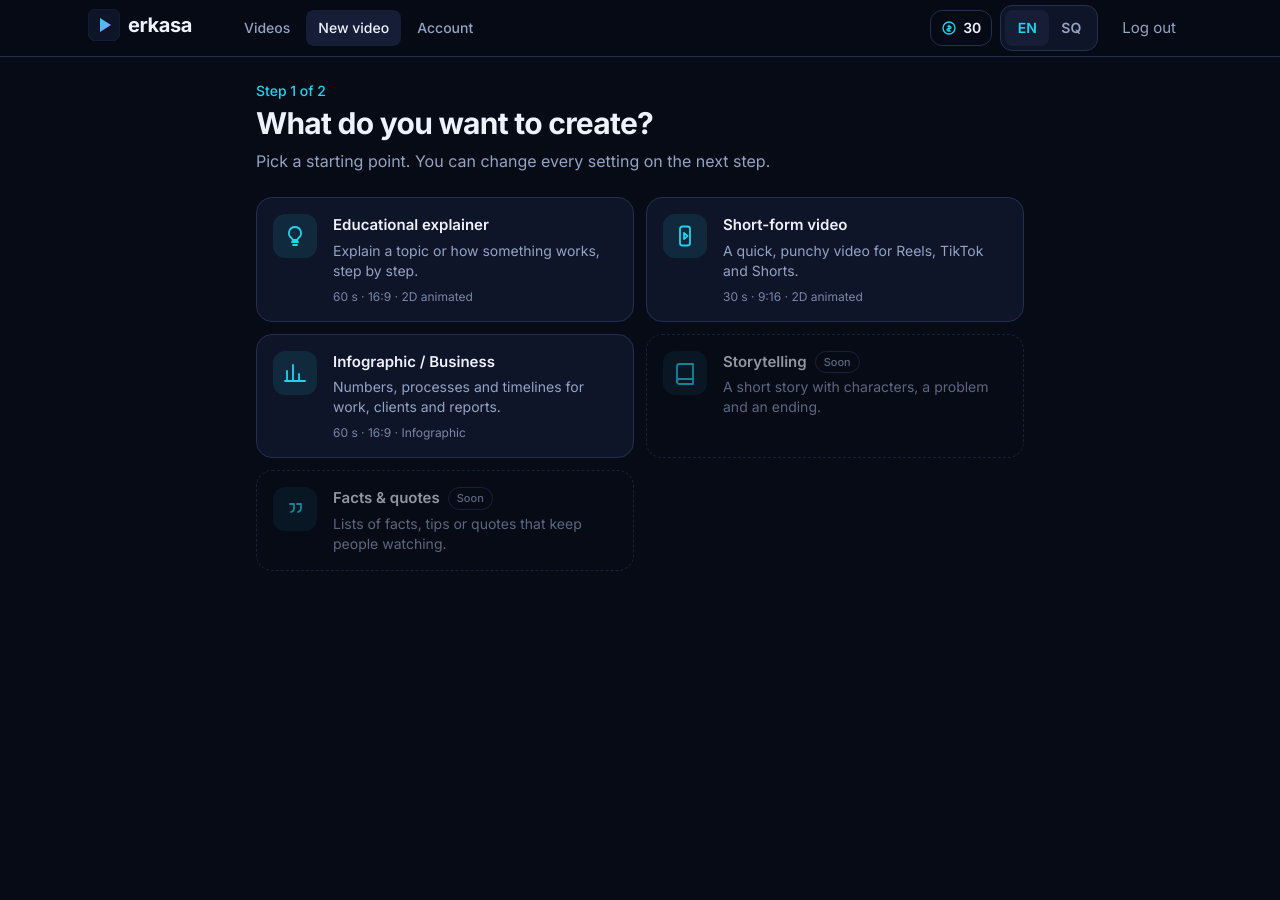
Test: credits in the app › warns on "New video" when the chosen length costs more than the balance
The image size is (1280, 900).
Note: the short-form card starts at 30 s, which the balance covers
What coordinates should you click on to do the following:
click the button "Short-form video"
I would click on:
 (835, 259)
Its box is [646, 197, 1024, 322].
(page scrolled)
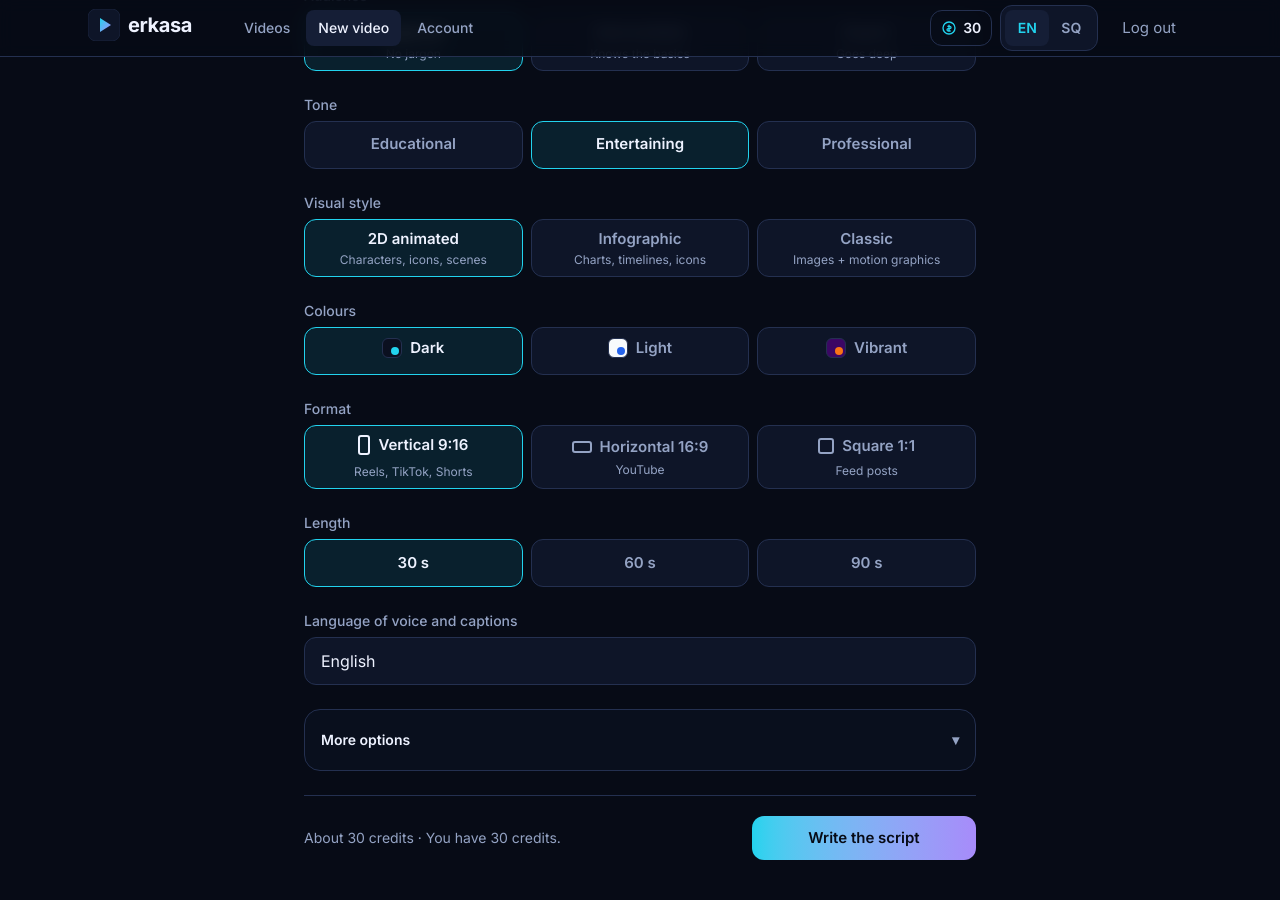
Expected: the text "This video needs" is not shown
Expected: the text "About 30 credits · You have 30 credits." is shown, [304, 828, 561, 848]
What coordinates should you click on to do the following:
click the radio button labelled "60 s"
I would click on:
 (640, 563)
Its box is [531, 539, 749, 587].
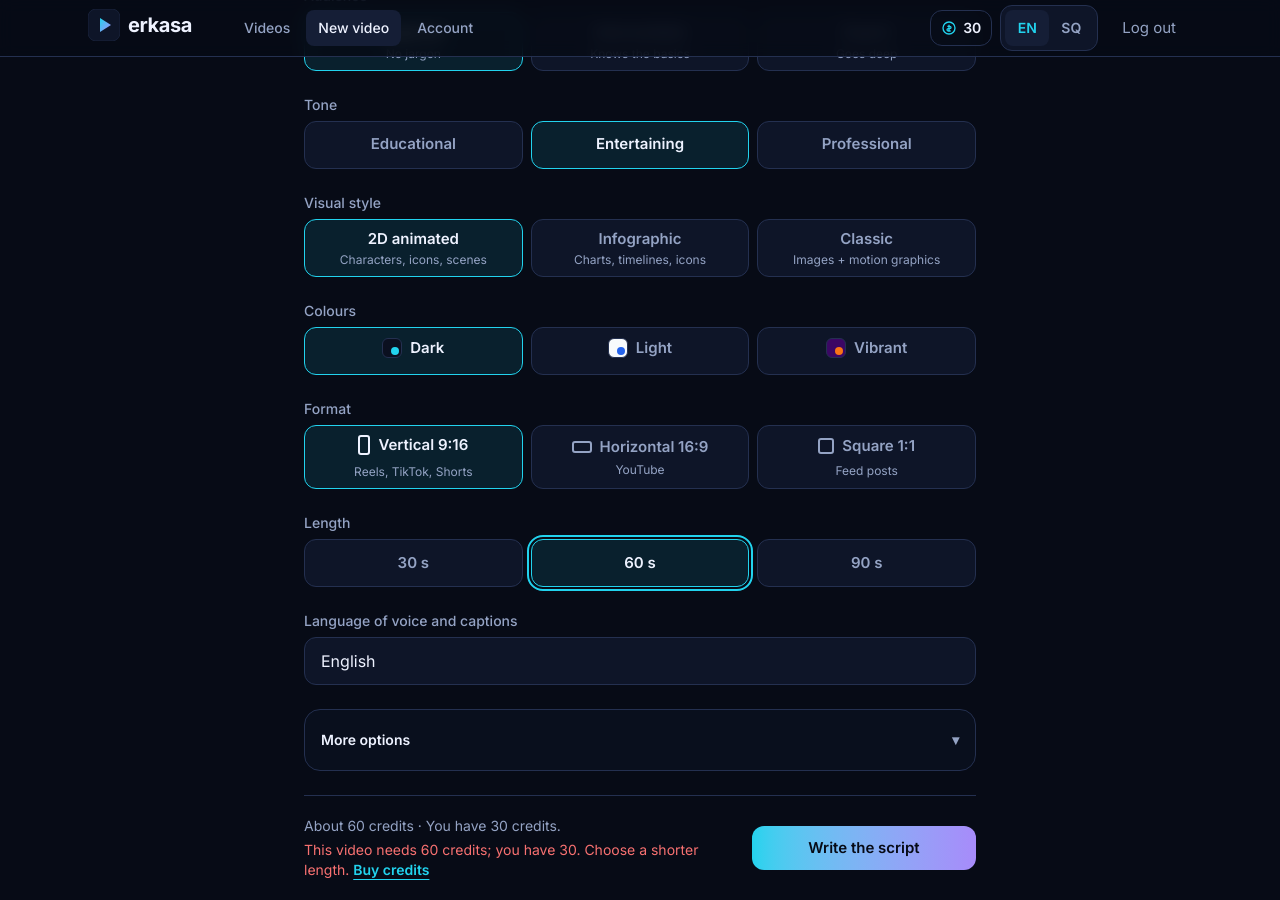
Expected: the text "This video needs 60 credits; you have 30. Choose a shorter length." is shown, [304, 841, 698, 878]
